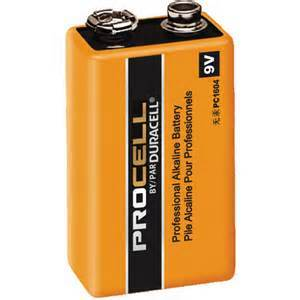9V: (50, 4, 241, 299)
